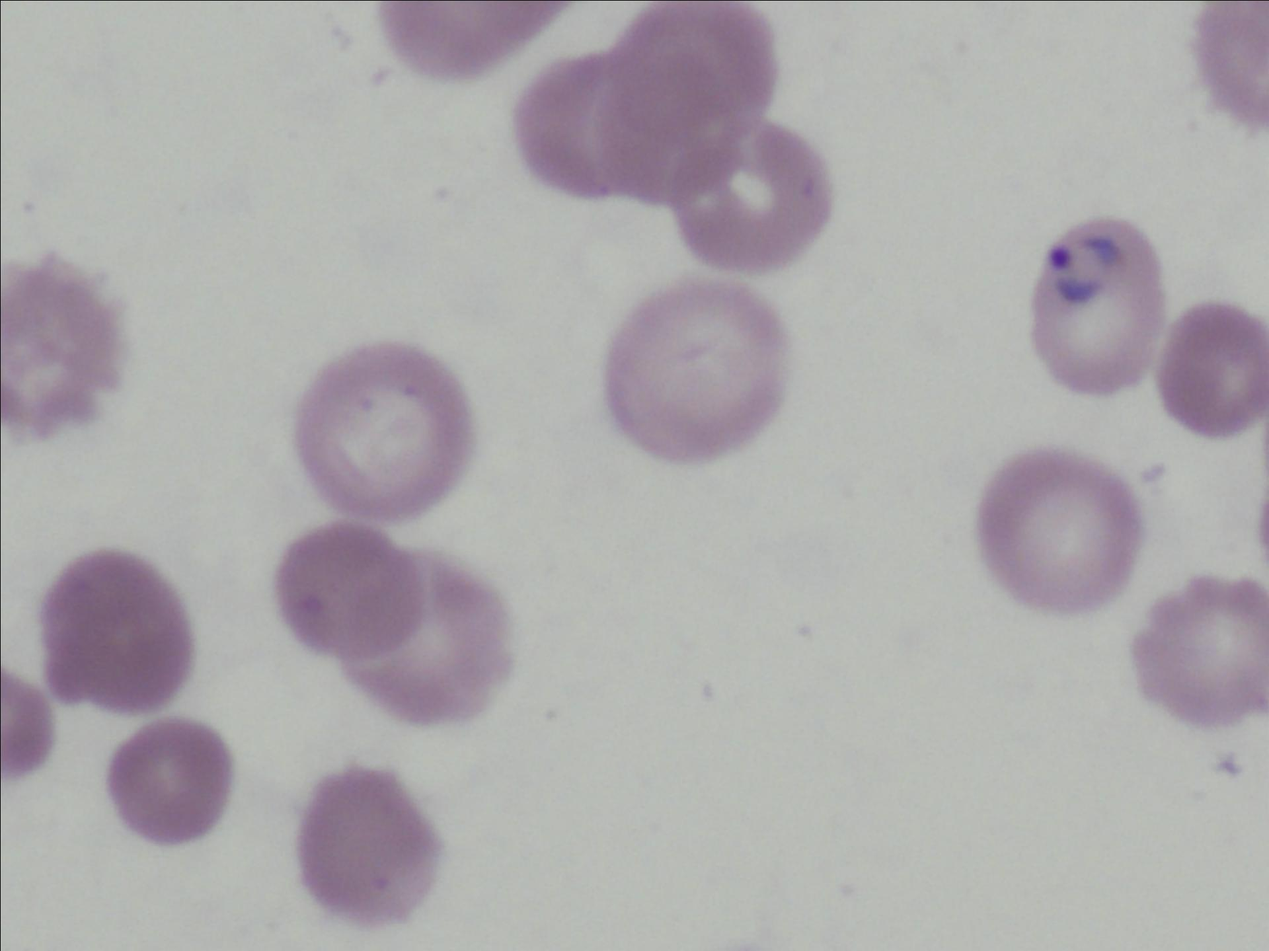Infected: (1031, 217, 1164, 393)
Uninfected: (582, 3, 778, 192), (603, 282, 783, 458), (297, 342, 471, 520), (346, 559, 509, 722), (977, 451, 1138, 610), (39, 550, 193, 713), (297, 767, 440, 923), (676, 125, 831, 268), (274, 524, 429, 665), (4, 260, 125, 436), (1130, 579, 1264, 724), (518, 53, 636, 198), (109, 720, 233, 844), (1158, 303, 1269, 435)
